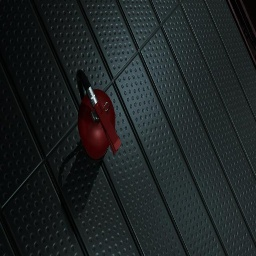FireExtinguisher ]: (76, 69, 122, 163)
